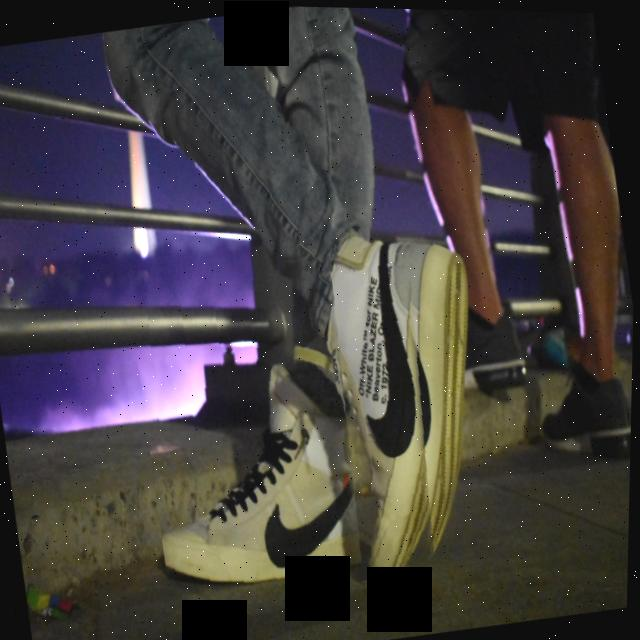shoe: (122, 244, 383, 617), (277, 113, 469, 584)
